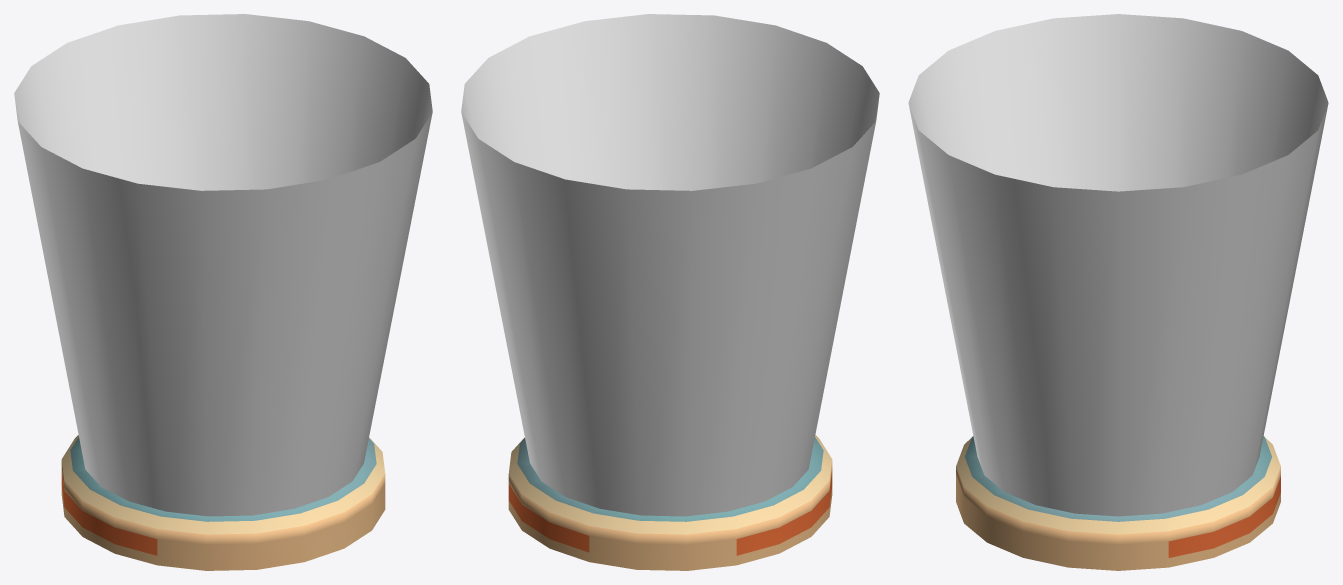
The model's file is Podium.fbx.
3 renders of one model, left to right at view 1: azimuth 30°, elevation 25°; view 2: azimuth 150°, elevation 25°; view 3: azimuth 270°, elevation 25°, orthographic.
Visible parts, largest first — view 1: Aura1, Podium; view 2: Aura1, Podium; view 3: Aura1, Podium.
Part boxes in pixels (bbox=[...]): Aura1: bbox=[14, 14, 432, 516]; Podium: bbox=[61, 435, 385, 570]; Aura1: bbox=[461, 14, 879, 516]; Podium: bbox=[508, 435, 832, 570]; Aura1: bbox=[908, 14, 1328, 516]; Podium: bbox=[956, 436, 1280, 570].
Bounding box in the file's own units: 7.05 × 7.4 × 7.05.
